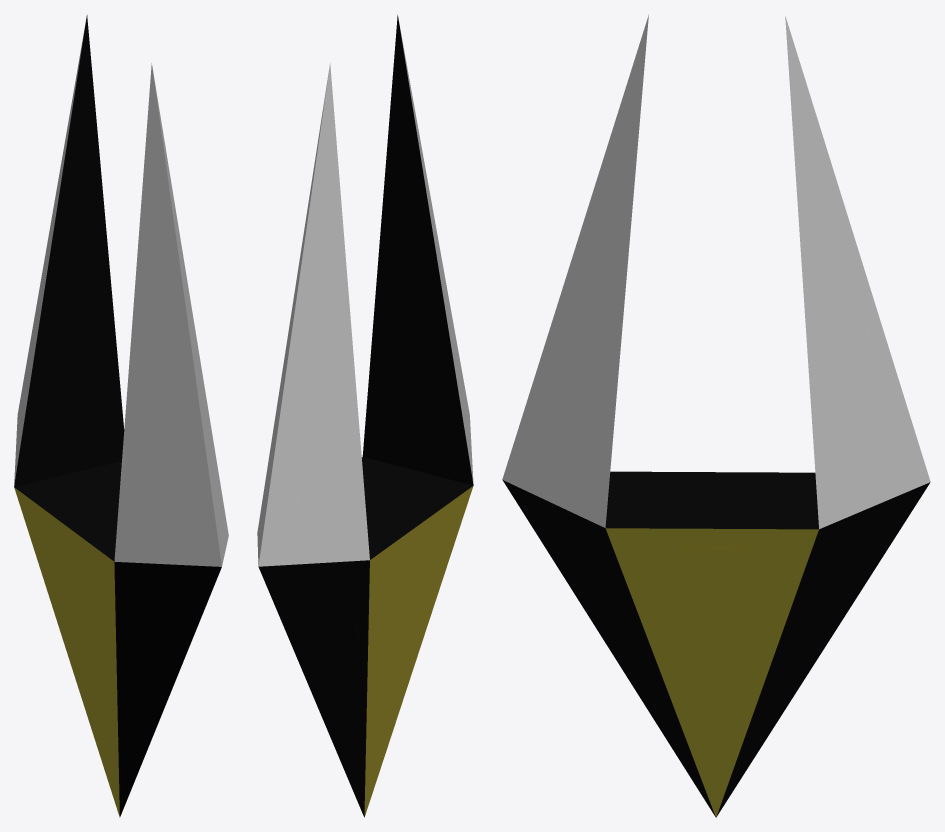
Rendered from bit.obj.
3 views of the same model, side by side, from view 1: azimuth 30°, elevation 25°; view 2: azimuth 150°, elevation 25°; view 3: azimuth 270°, elevation 25° (orthographic). The views are drawn at different scales.
Parts seen in each view (by area): view 1: Cube; view 2: Cube; view 3: Cube.
Boxes of the visible parts, x1,y1,x2,y2 form: Cube: (14,15,228,817); Cube: (257,15,473,817); Cube: (502,14,930,817).
Size of the model in its own units: 0.3099 by 2.02 by 0.9764.
Materials: 1 (1 with a texture image).
